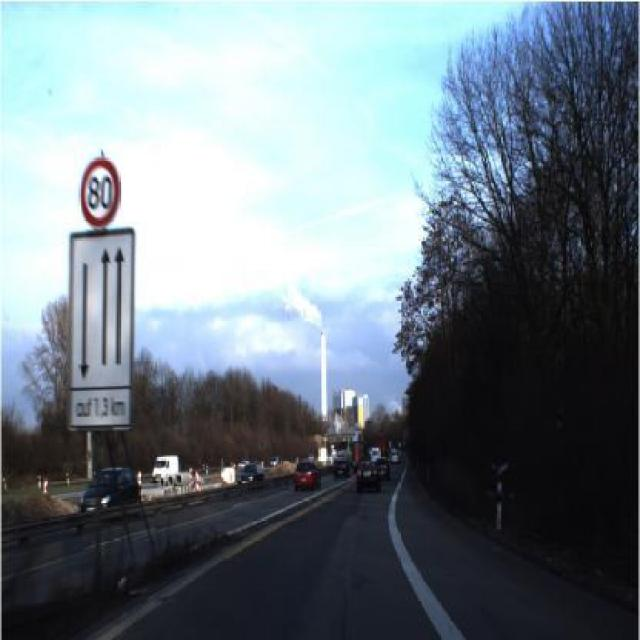Ograniczenie predkosci do 80: (76, 154, 122, 229)
